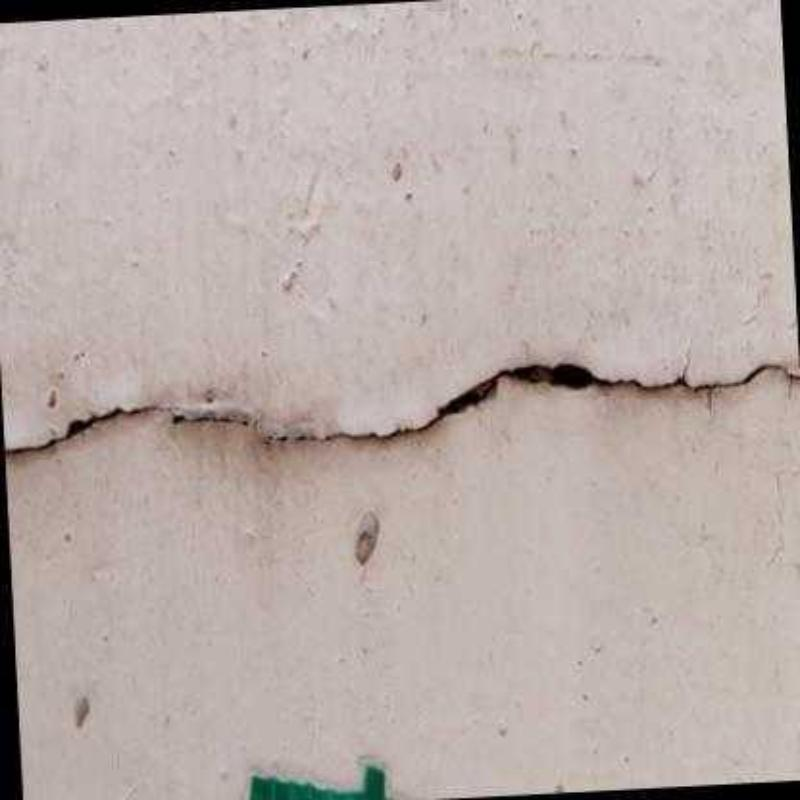pothole: (2, 359, 800, 454)
